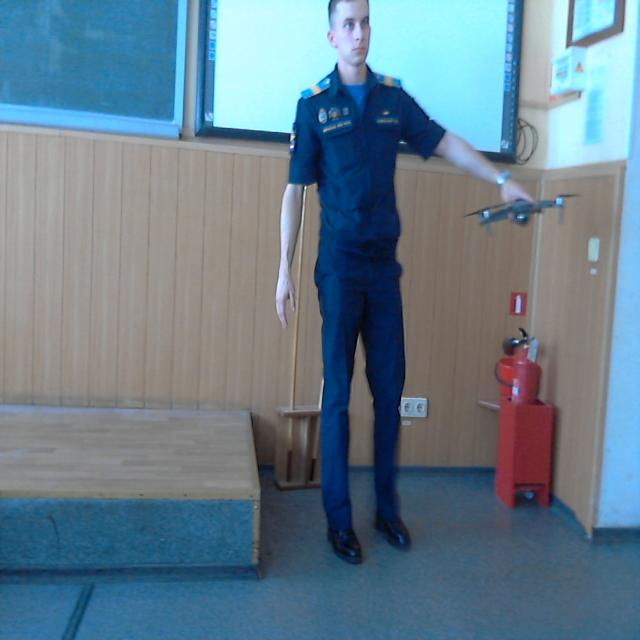drone: (462, 179, 576, 232)
